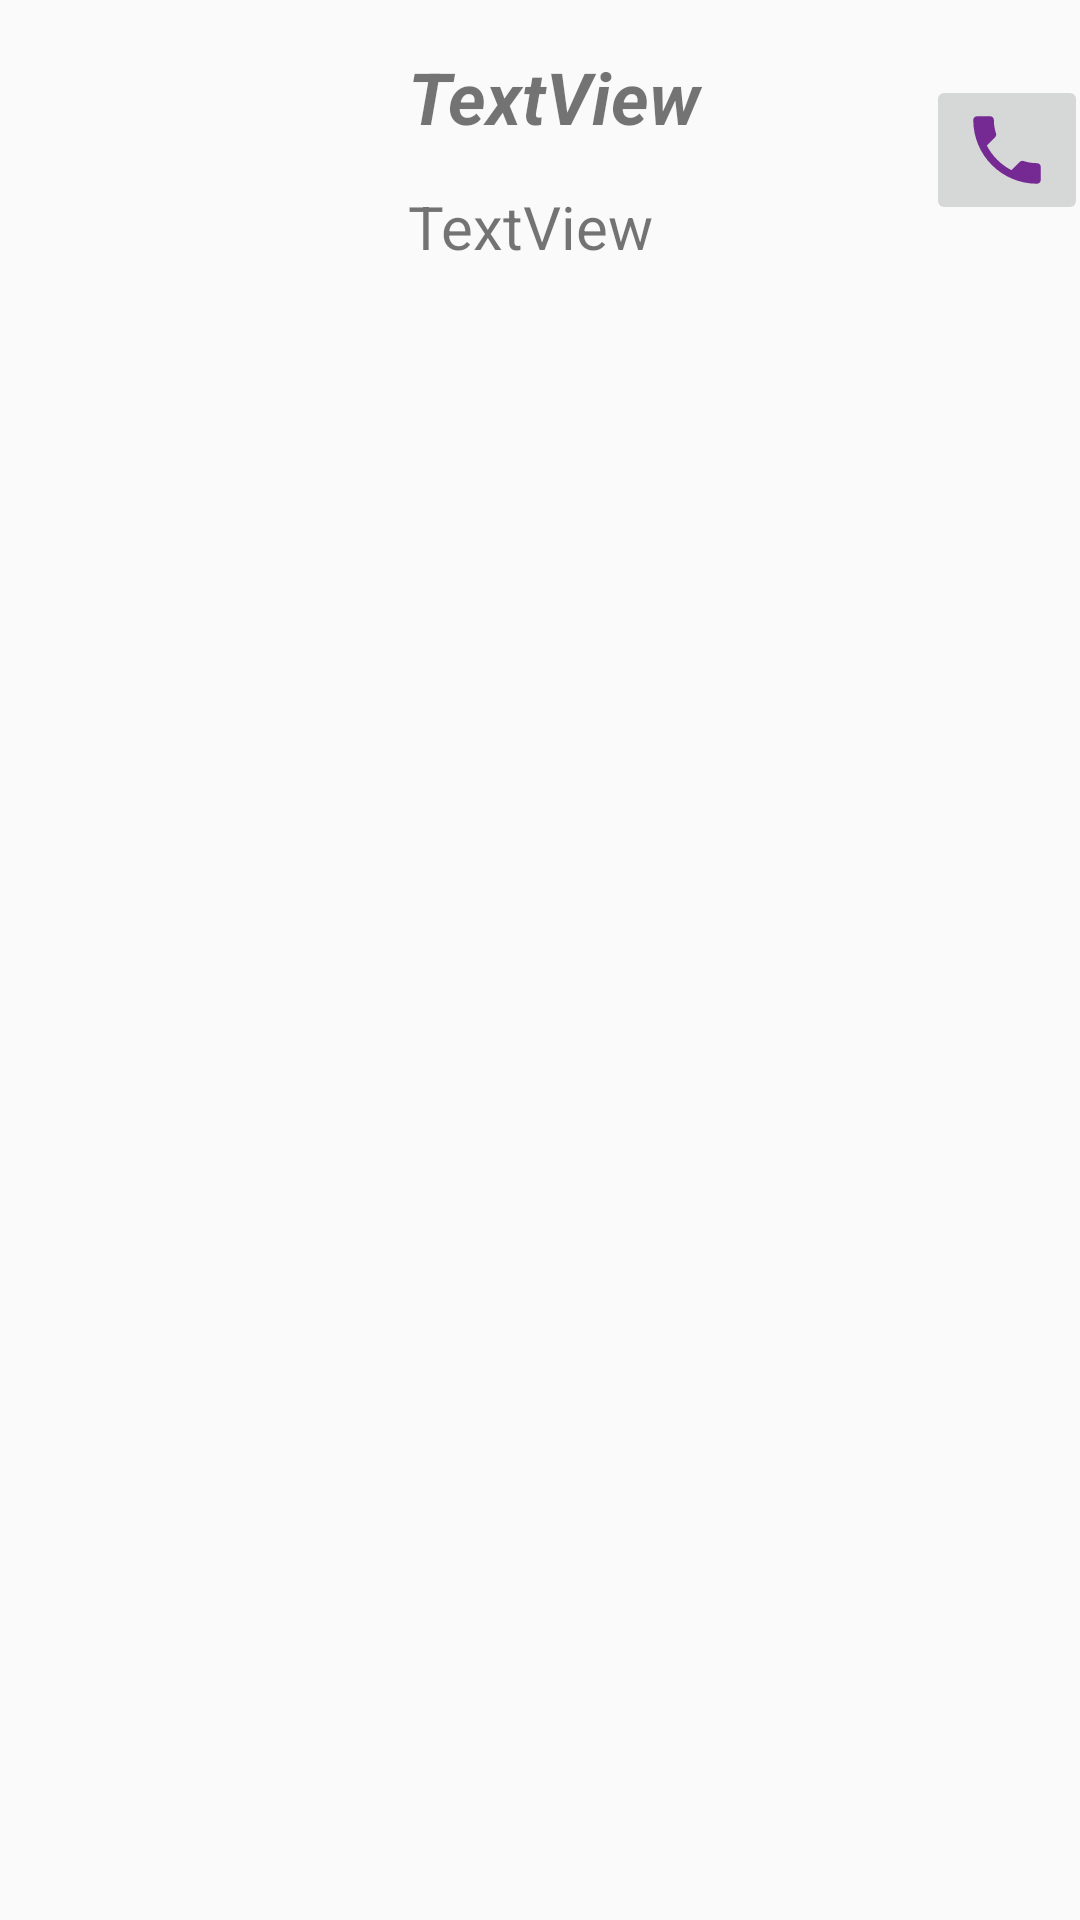

Where to tap for icons on this 1080px x 1920px app screen, as (x=x, y=y):
Call: (x=1007, y=150)
